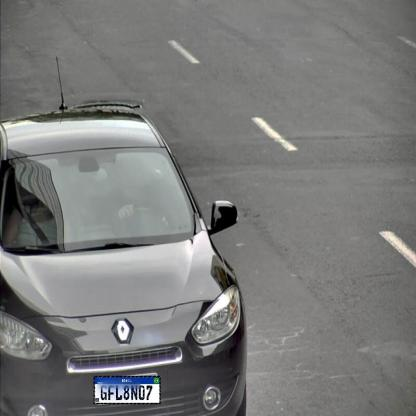PlacaM: (94, 376, 160, 404)
